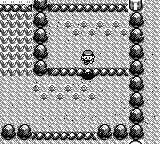captura: (1, 12, 32, 76)
main: (81, 50, 95, 65)
no-caminable: (97, 12, 144, 140), (33, 1, 48, 76), (1, 124, 32, 140), (128, 0, 144, 12)
salto: (49, 68, 127, 76), (49, 4, 127, 11), (33, 132, 95, 140), (1, 4, 32, 11)
